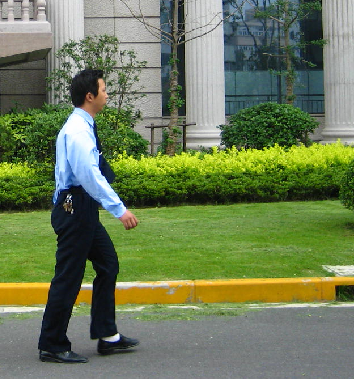pedestrian: (39, 69, 140, 363)
